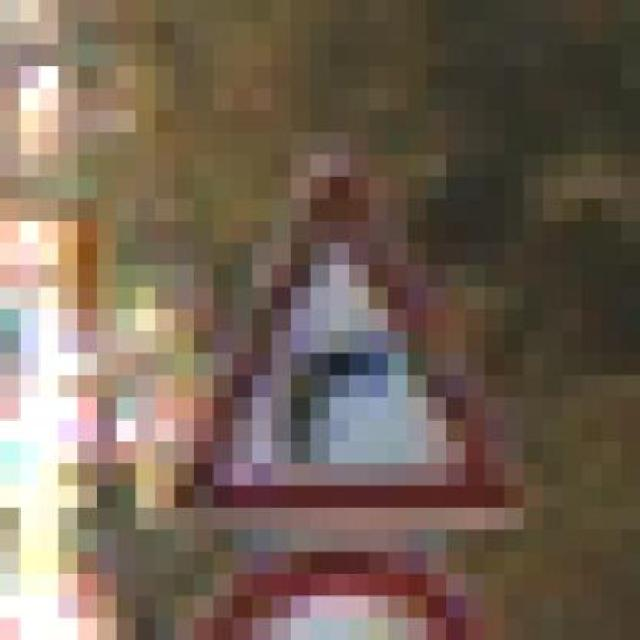Dangerous Rright Curve Ahead: (116, 132, 544, 552)
